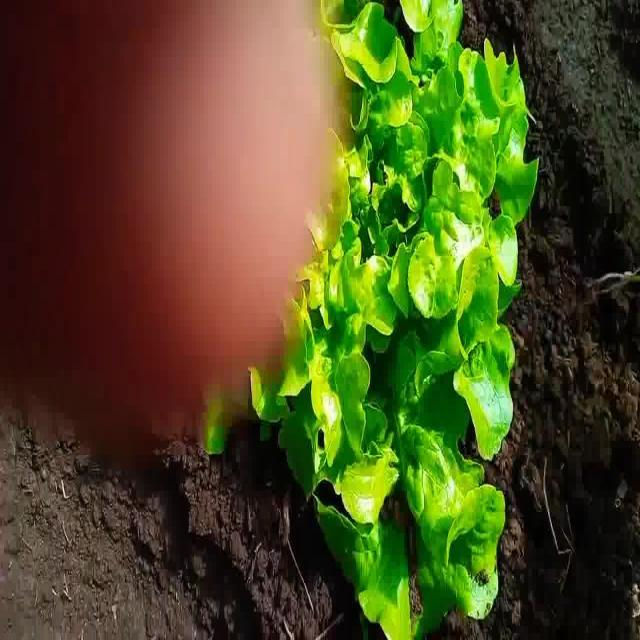Lettuce: (245, 0, 539, 637)
